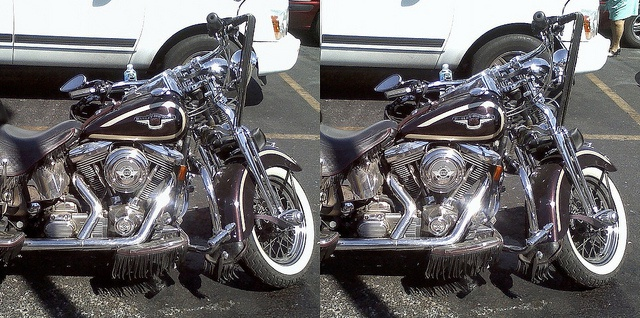non-vehicle: (1, 0, 318, 289)
